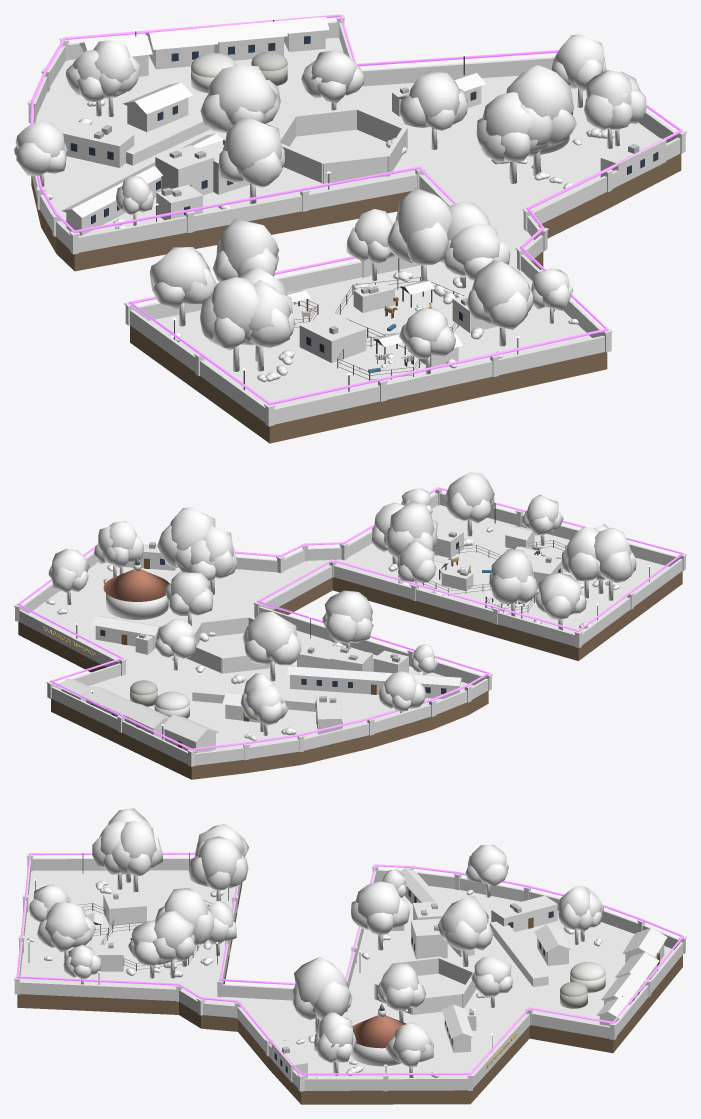
Rendered from Mapa.glb.
3 views of the same model, one above another, from view 1: azimuth 30°, elevation 25°; view 2: azimuth 150°, elevation 25°; view 3: azimuth 270°, elevation 25° (orthographic). The views are drawn at different scales.
Parts seen in each view (by area): view 1: Terreno, LineaAzul, Muro_13, Muro_9, Arbol.003, Arbol.019, Arbol.007, Arbol.005, Arbol.022, Arbol.018, Arbol.014, Arbol.006 (+50 smaller); view 2: Terreno, LineaAzul, Muro_11, Arbol.003, Pilastras, Arbol.005, Arbol.015, Arbol.007, Arbol.022, Arbol.019, Arbol.018, Arbol.014 (+55 smaller); view 3: Terreno, LineaAzul, Arbol.007, Arbol.015, Arbol.005, Arbol.003, Arbol.016, Arbol.022, Muro_8, Muro_3, Pilastras, Arbol.020 (+42 smaller).
Part boxes in pixels (left/top/right/bottom): Terreno: left=31, top=37, right=681, bottom=443; LineaAzul: left=30, top=14, right=682, bottom=405; Muro_13: left=79, top=173, right=417, bottom=252; Muro_9: left=274, top=335, right=604, bottom=424; Arbol.003: left=200, top=65, right=280, bottom=132; Arbol.019: left=387, top=187, right=452, bottom=281; Arbol.007: left=506, top=65, right=576, bottom=175; Arbol.005: left=218, top=117, right=284, bottom=204; Arbol.022: left=466, top=260, right=533, bottom=346; Arbol.018: left=199, top=277, right=258, bottom=371; Arbol.014: left=149, top=247, right=216, bottom=326; Arbol.006: left=400, top=71, right=467, bottom=149; Terreno: left=18, top=505, right=682, bottom=779; LineaAzul: left=17, top=487, right=683, bottom=750; Muro_11: left=334, top=565, right=574, bottom=646; Arbol.003: left=242, top=612, right=301, bottom=681; Pilastras: left=14, top=487, right=686, bottom=766; Arbol.005: left=322, top=590, right=373, bottom=649; Arbol.015: left=489, top=549, right=537, bottom=616; Arbol.007: left=157, top=507, right=215, bottom=571; Arbol.022: left=444, top=472, right=494, bottom=536; Arbol.019: left=385, top=501, right=437, bottom=558; Arbol.018: left=594, top=527, right=636, bottom=600; Arbol.014: left=535, top=573, right=586, bottom=630; Terreno: left=17, top=870, right=682, bottom=1104; LineaAzul: left=16, top=852, right=683, bottom=1075; Arbol.007: left=292, top=957, right=351, bottom=1031; Arbol.015: left=188, top=836, right=248, bottom=901; Arbol.005: left=350, top=881, right=409, bottom=950; Arbol.003: left=438, top=896, right=493, bottom=966; Arbol.016: left=112, top=820, right=162, bottom=892; Arbol.022: left=37, top=902, right=95, bottom=963; Muro_8: left=19, top=981, right=176, bottom=1000; Muro_3: left=304, top=1078, right=467, bottom=1090; Pilastras: left=14, top=853, right=686, bottom=1091; Arbol.020: left=152, top=910, right=195, bottom=978.
Bounding box in the file's own units: 100 × 20.56 × 127.
